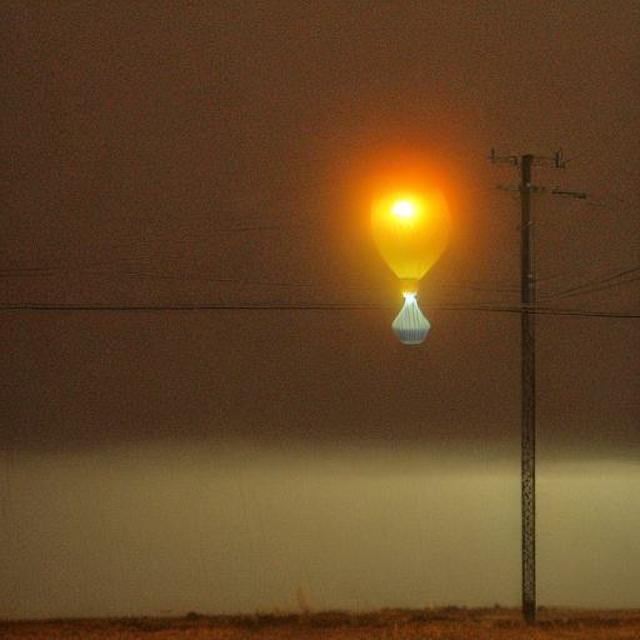balloon: (304, 125, 493, 338)
